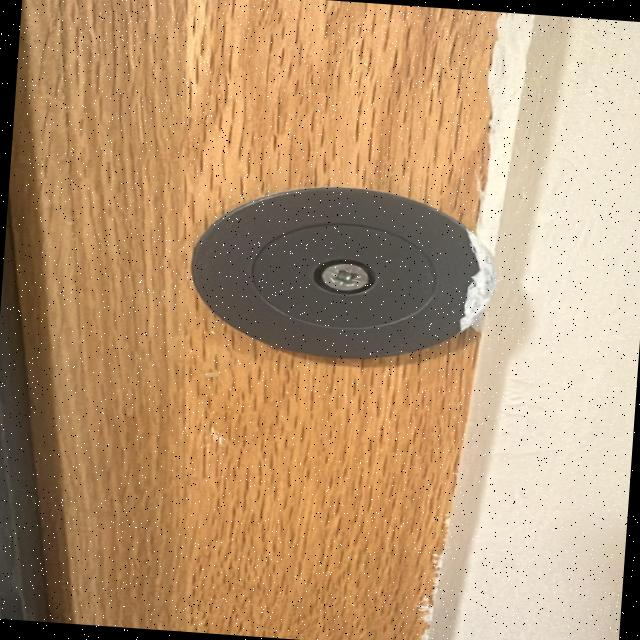Pozidriv: (310, 256, 378, 297)
